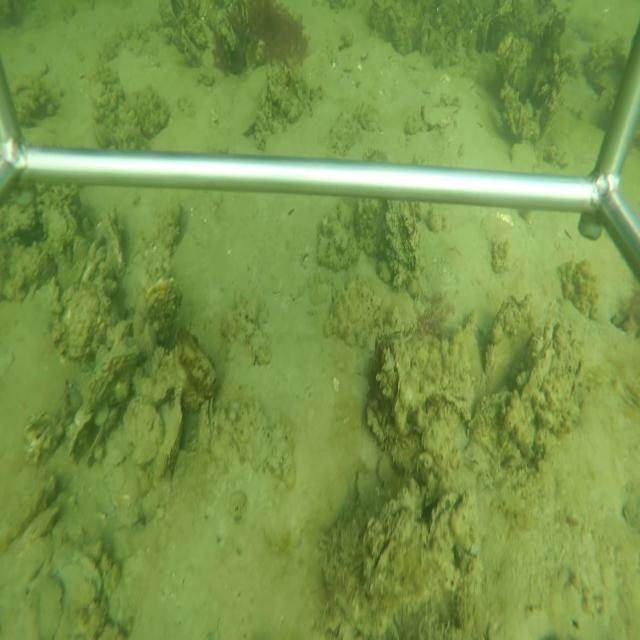Oyster-Closed: (482, 293, 536, 399), (149, 389, 186, 486), (173, 324, 220, 396), (85, 407, 121, 477), (427, 486, 463, 548)
